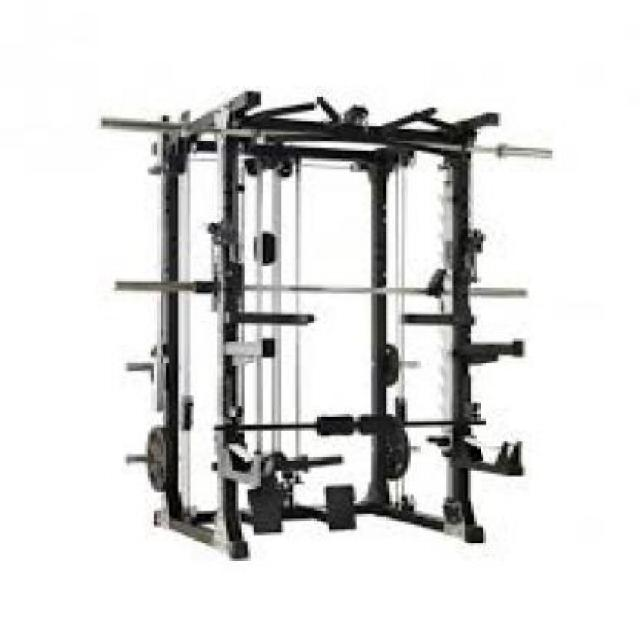smith machine: (97, 91, 554, 560)
